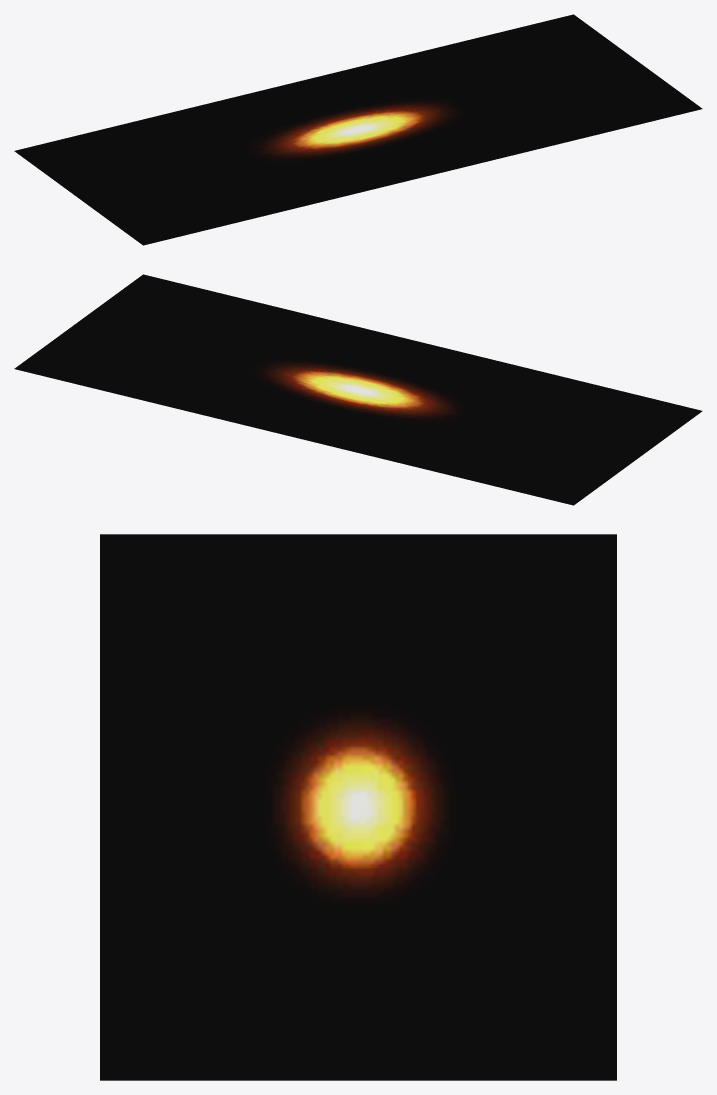
3 views of the same model, one above another, from view 1: azimuth 30°, elevation 25°; view 2: azimuth 150°, elevation 25°; view 3: azimuth 270°, elevation 25° (orthographic). The views are drawn at different scales.
Bounding box in the file's own units: 2.2 × 5.39e-17 × 0.88.
1 material, 1 textured.
